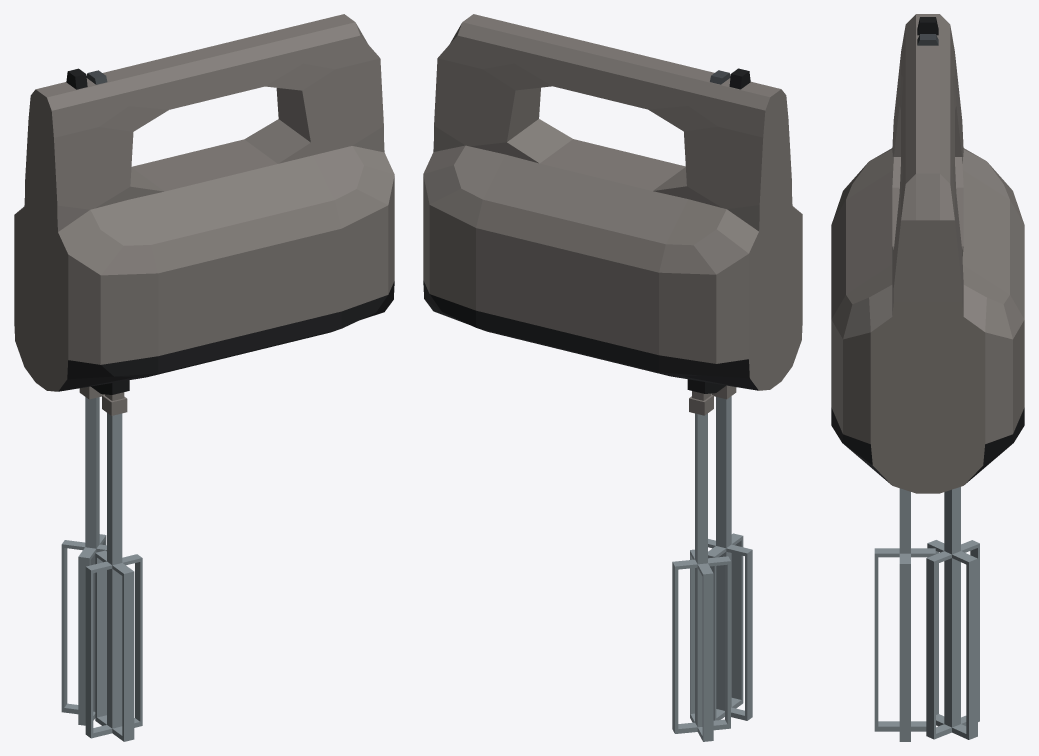
File: electricmixers_01_A.gltf
3 renders of one model, left to right at view 1: azimuth 30°, elevation 25°; view 2: azimuth 150°, elevation 25°; view 3: azimuth 270°, elevation 25°, orthographic. The views are drawn at different scales.
Parts seen in each view (by area): view 1: electricmixers_01_A, mixerdevice_01_A, mixerdevice_02_A; view 2: electricmixers_01_A, mixerdevice_02_A, mixerdevice_01_A; view 3: electricmixers_01_A, mixerdevice_02_A, mixerdevice_01_A, buttonforelectricmixers_02_A.
Boxes of the visible parts, x1=… form: electricmixers_01_A: x1=14, y1=14, x2=394, y2=415; mixerdevice_01_A: x1=85, y1=413, x2=142, y2=741; mixerdevice_02_A: x1=61, y1=397, x2=106, y2=725; electricmixers_01_A: x1=423, y1=14, x2=802, y2=415; mixerdevice_02_A: x1=672, y1=413, x2=730, y2=741; mixerdevice_01_A: x1=708, y1=396, x2=752, y2=720; electricmixers_01_A: x1=831, y1=14, x2=1024, y2=493; mixerdevice_02_A: x1=926, y1=487, x2=979, y2=739; mixerdevice_01_A: x1=874, y1=488, x2=935, y2=741; buttonforelectricmixers_02_A: x1=917, y1=17, x2=938, y2=35.
Bounding box in the file's own units: 0.2861 × 0.5494 × 0.1384.
1 material, 1 textured.
